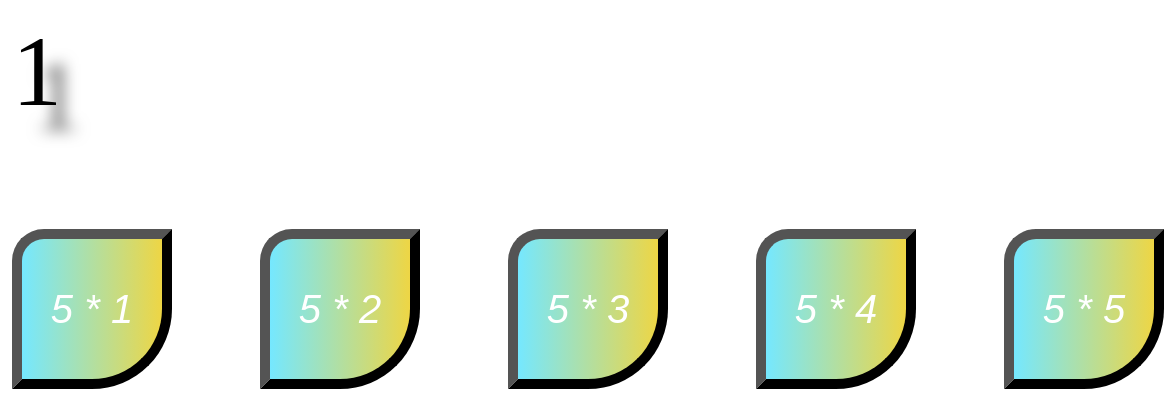
Test: should multiply 5 by 1 when the 5*1 button is pressed
This screenshot has width=1176, height=406.
Click the button "5 * 1": (92, 309) [12, 229, 172, 389]
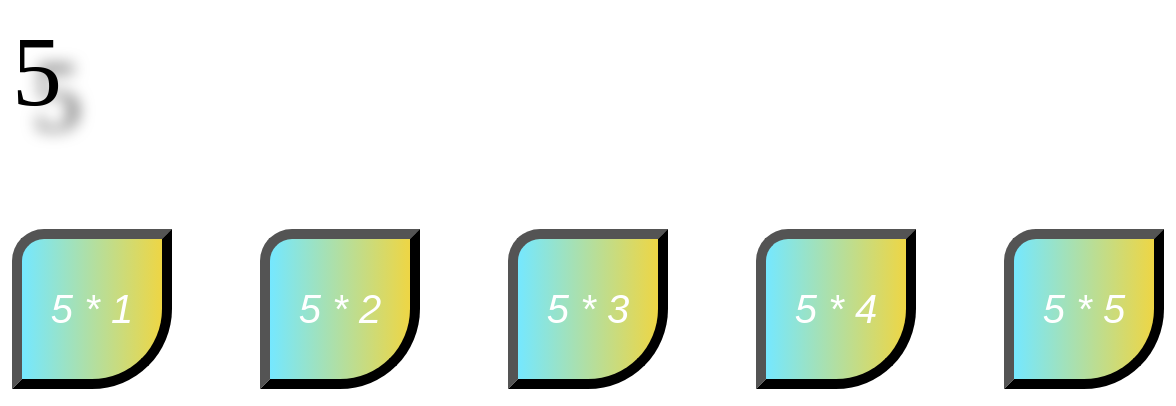
Expected: the text "5" is shown, [12, 16, 62, 127]
